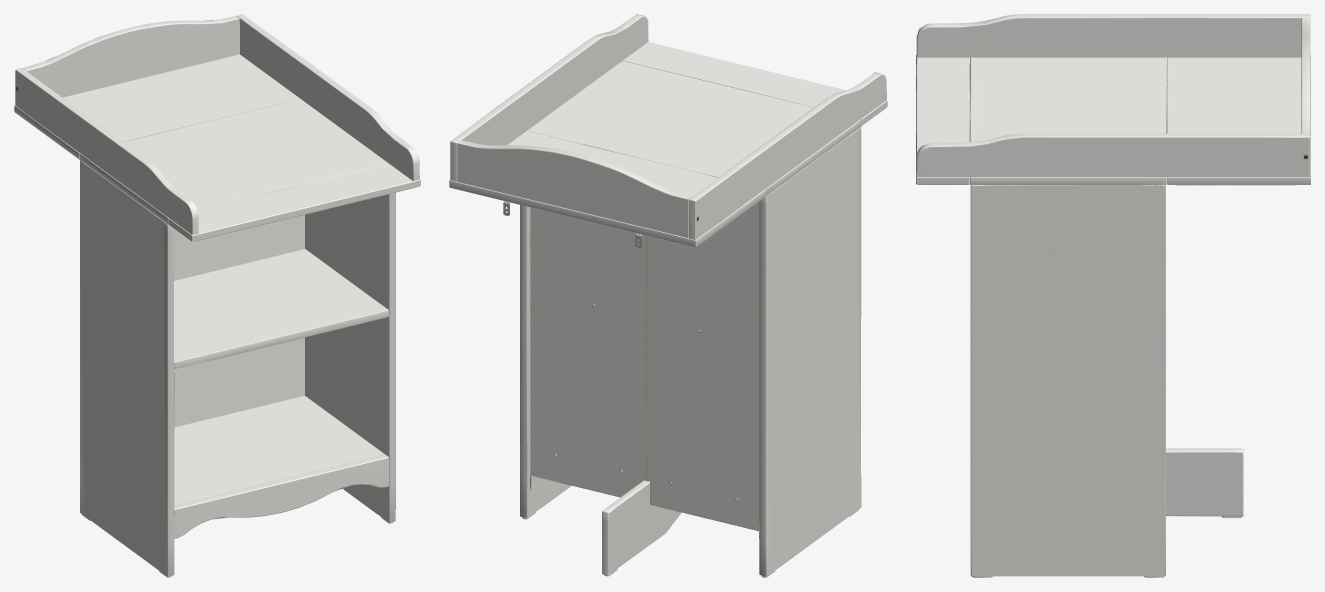
File: smagora_stolik_do_przewijania_rega_10597952.glb
The picture shows the model from 3 angles, left to right: view 1: azimuth 30°, elevation 25°; view 2: azimuth 150°, elevation 25°; view 3: azimuth 270°, elevation 25°; orthographic projection. The views are drawn at different scales.
Visible parts, largest first — view 1: smagora_stolik_do_przewijania_rega_10597952; view 2: smagora_stolik_do_przewijania_rega_10597952; view 3: smagora_stolik_do_przewijania_rega_10597952.
Boxes of the visible parts, box(x1,y1,x2,y2) form: smagora_stolik_do_przewijania_rega_10597952: box(14, 14, 420, 577); smagora_stolik_do_przewijania_rega_10597952: box(449, 14, 887, 577); smagora_stolik_do_przewijania_rega_10597952: box(916, 14, 1310, 577).
Size of the model in its own units: 0.6001 by 1.03 by 0.8082.
1 material, 1 textured.
